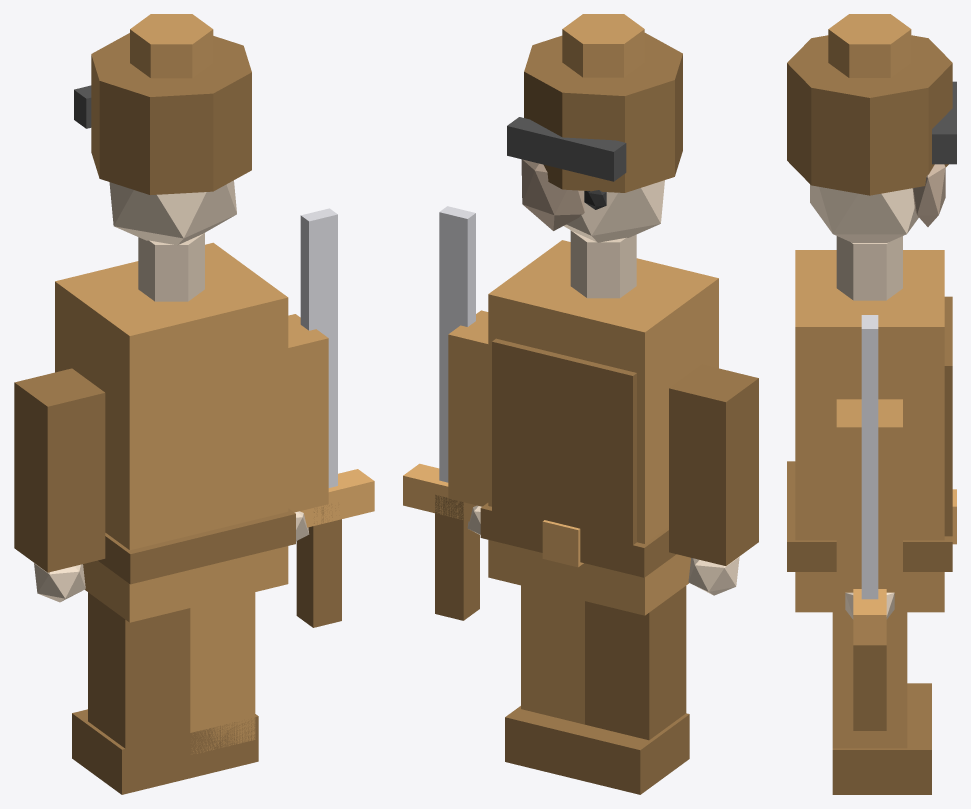
Rendered from general.glb.
3 renders of one model, left to right at view 1: azimuth 30°, elevation 25°; view 2: azimuth 150°, elevation 25°; view 3: azimuth 270°, elevation 25°, orthographic.
Parts seen in each view (by area): view 1: general; view 2: general; view 3: general.
Part boxes in pixels (x1,y1,x2,y2): general: [14, 14, 374, 794]; general: [403, 14, 758, 794]; general: [787, 14, 956, 794].
Bounding box in the file's own units: 0.93 × 1.95 × 0.41.
